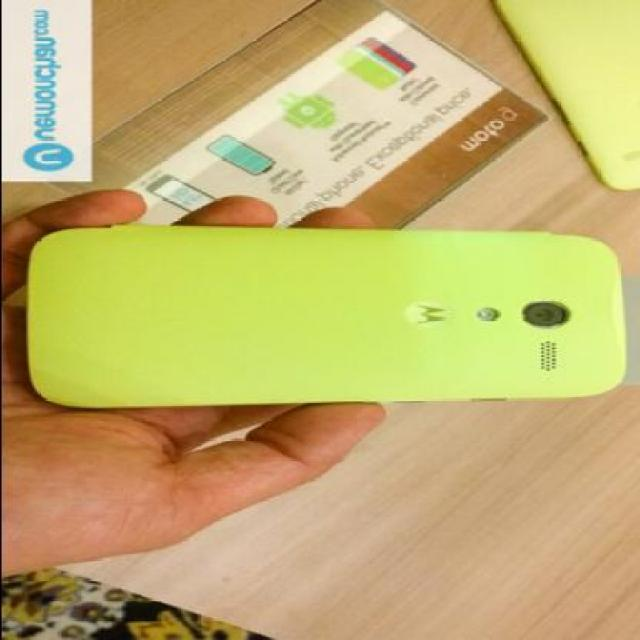phone: (46, 215, 629, 412), (487, 1, 640, 193), (335, 36, 417, 92), (144, 173, 213, 213)
